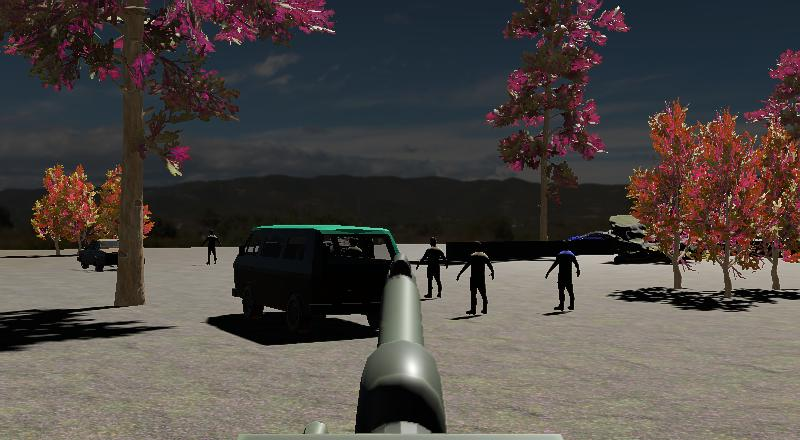Human: (456, 240, 496, 317), (545, 236, 582, 313), (417, 234, 449, 300)
car: (230, 223, 406, 335), (76, 236, 131, 273)
